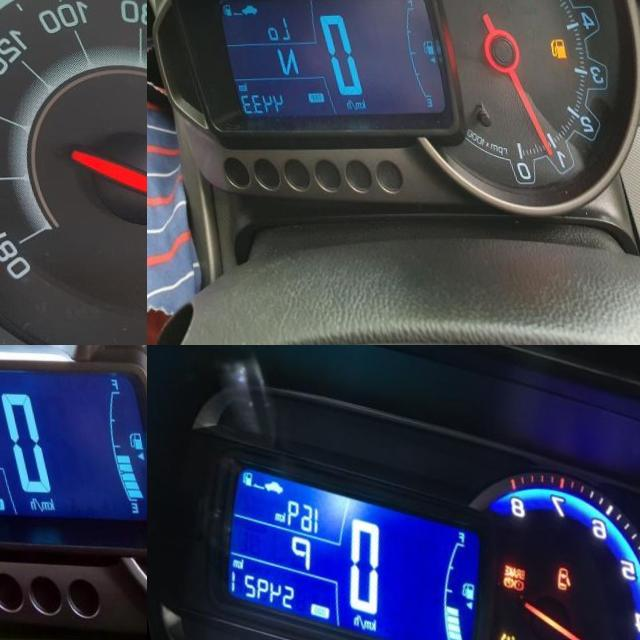Doors: (541, 564, 564, 590)
Low fuel level: (539, 36, 557, 58)
